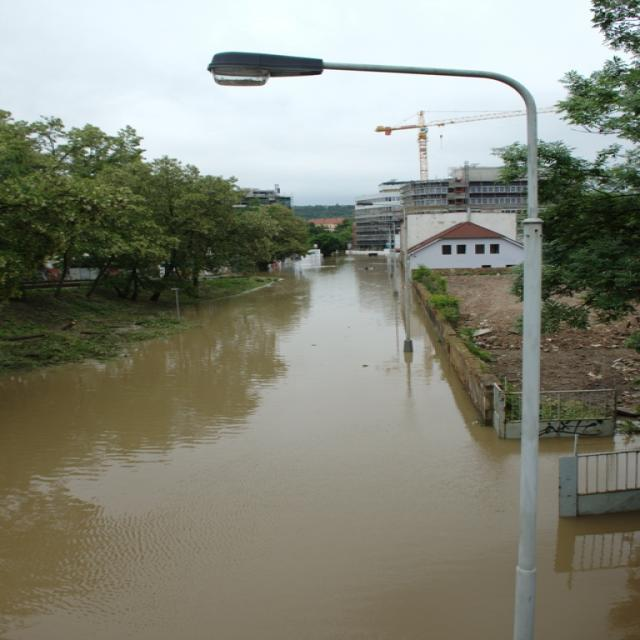flood: (0, 259, 520, 640), (537, 439, 640, 640), (579, 438, 640, 454), (294, 249, 324, 272)
house: (400, 221, 524, 269), (396, 164, 514, 209), (353, 200, 392, 252)
